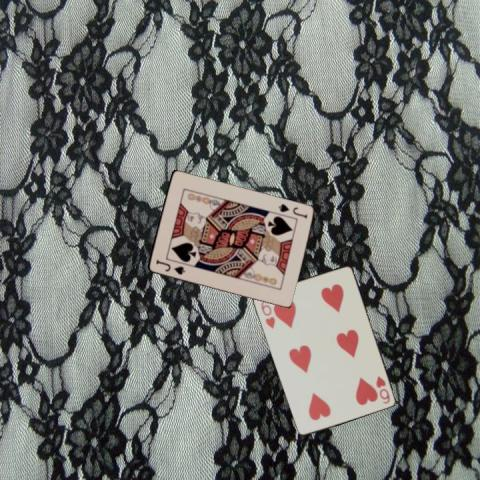6h: (257, 297, 276, 330), (372, 372, 390, 404)
Js: (275, 201, 309, 220), (153, 257, 186, 276)
